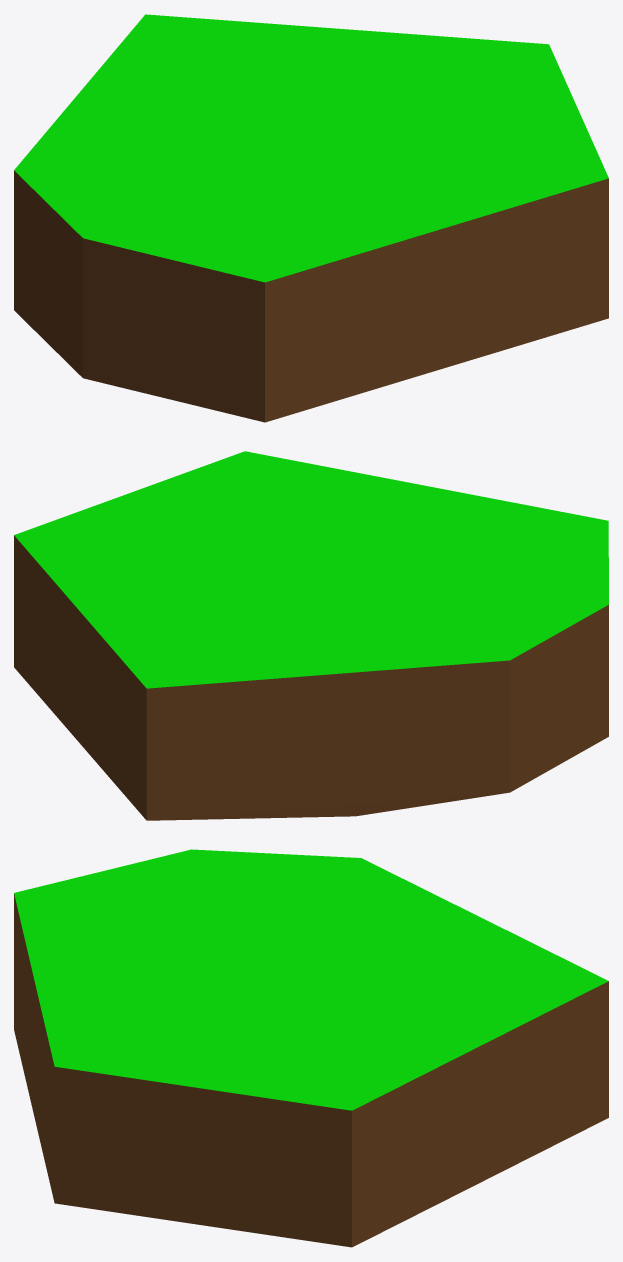
File: Island04.fbx
The picture shows the model from 3 angles, top to bottom: view 1: azimuth 30°, elevation 25°; view 2: azimuth 150°, elevation 25°; view 3: azimuth 270°, elevation 25°; orthographic projection. The views are drawn at different scales.
Parts seen in each view (by area): view 1: New_Game_Object; view 2: New_Game_Object; view 3: New_Game_Object.
Boxes of the visible parts, bbox=[...] form: New_Game_Object: bbox=[14, 14, 608, 422]; New_Game_Object: bbox=[14, 451, 608, 820]; New_Game_Object: bbox=[14, 849, 608, 1247].
Bounding box in the file's own units: 1579 × 1520 × 699.
